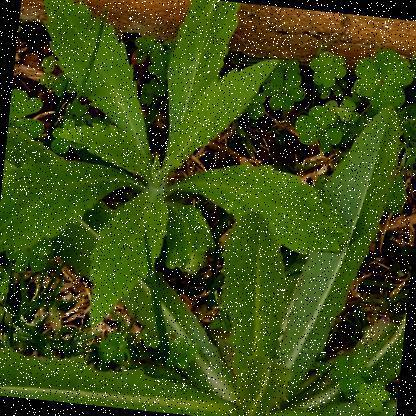Weeds: (0, 51, 415, 415), (0, 0, 369, 362)
